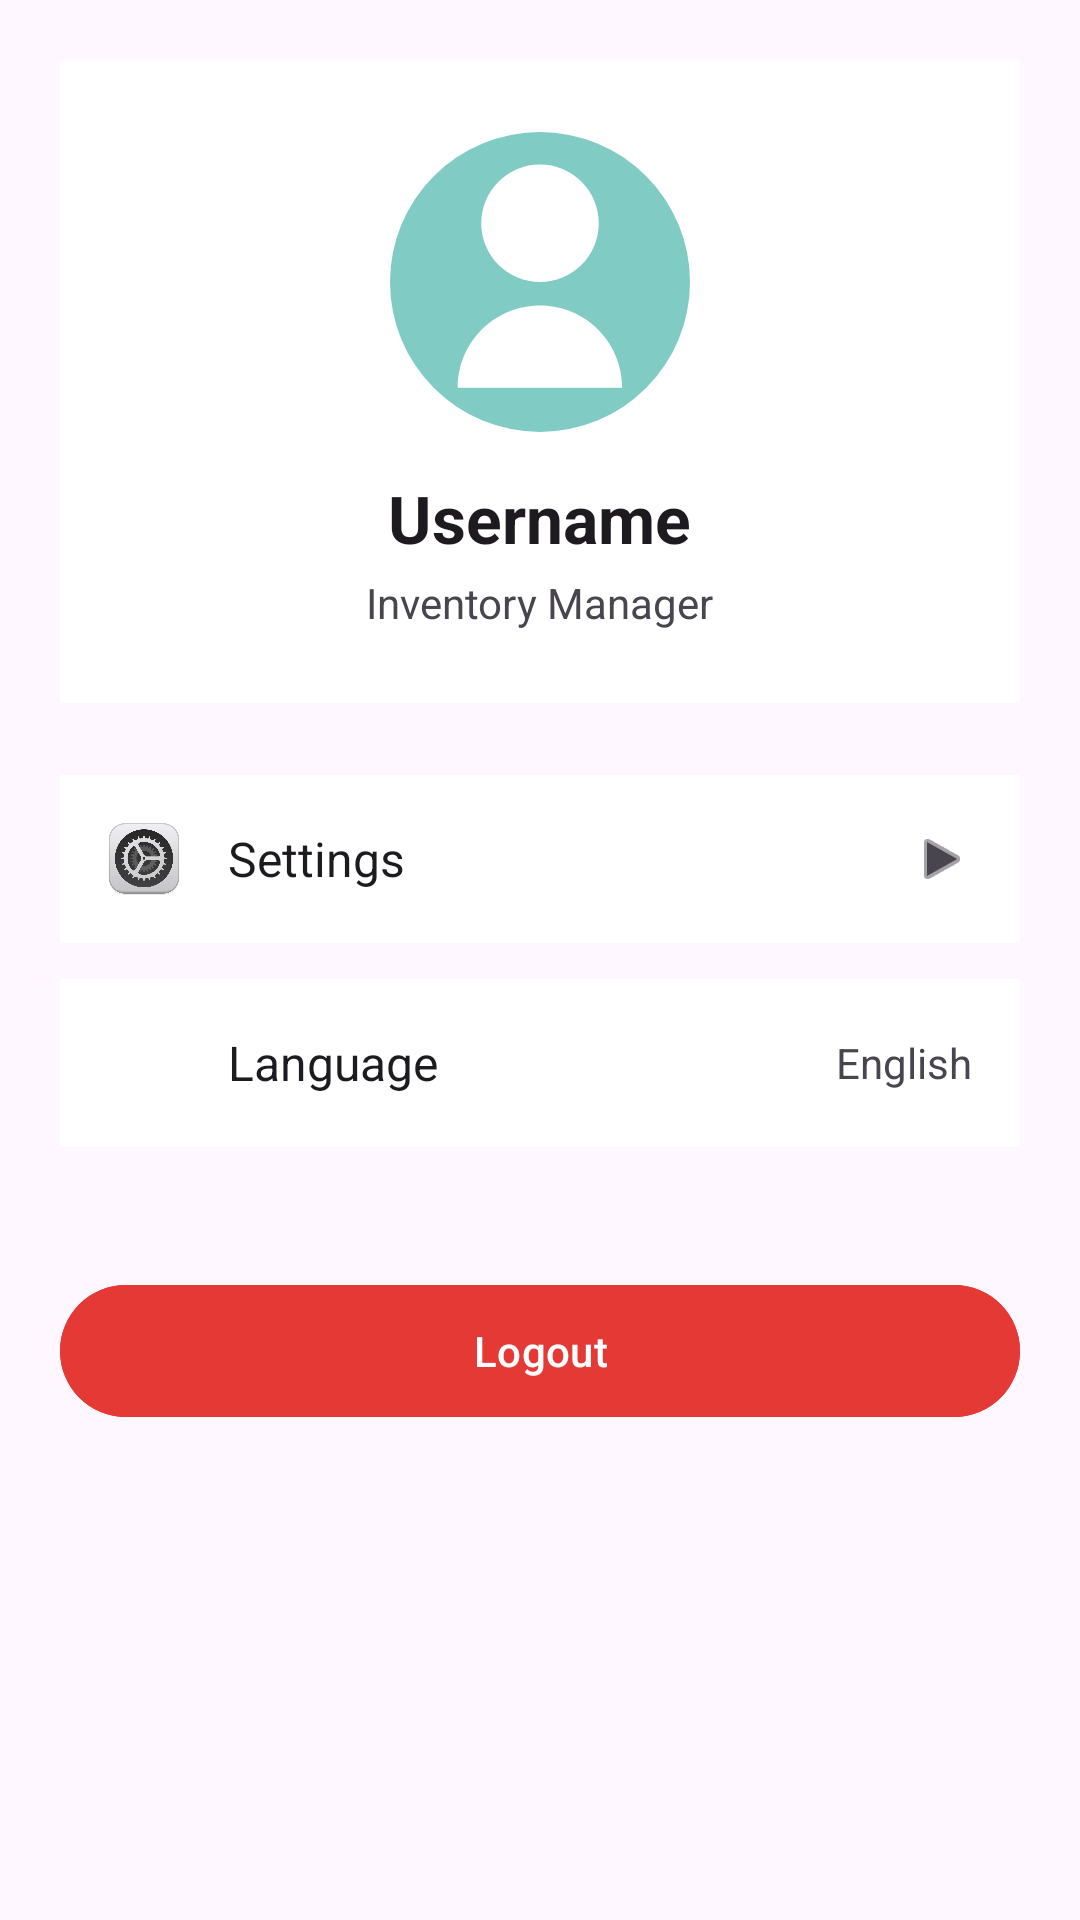

Where to tap for icons on this 1080px x 1920px app screen, as (x,y):
play: (942,859)
